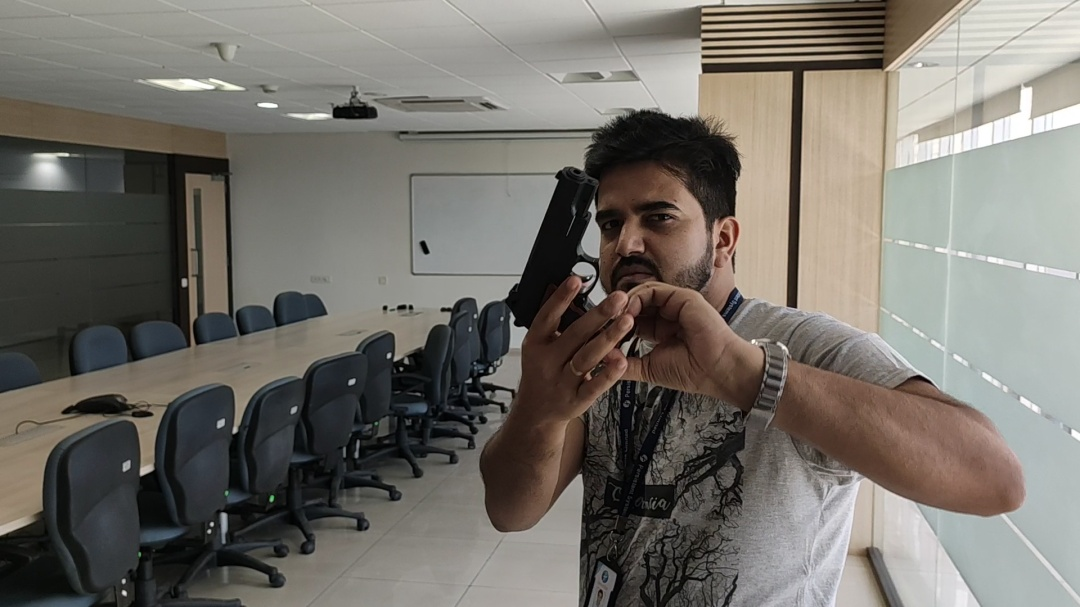gun: (503, 165, 599, 331)
